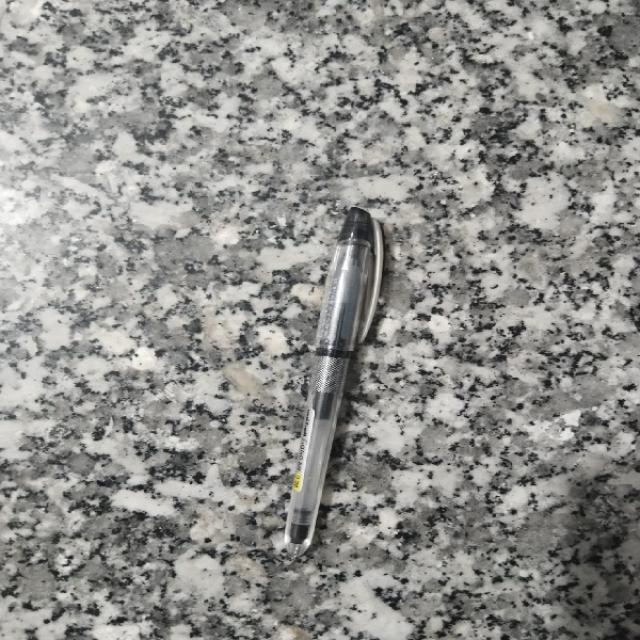pen: (285, 207, 382, 556)
